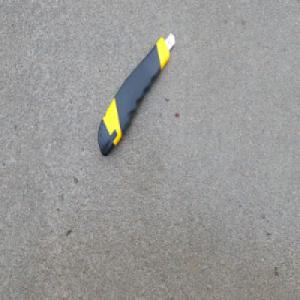Cutter: (98, 30, 176, 158)
